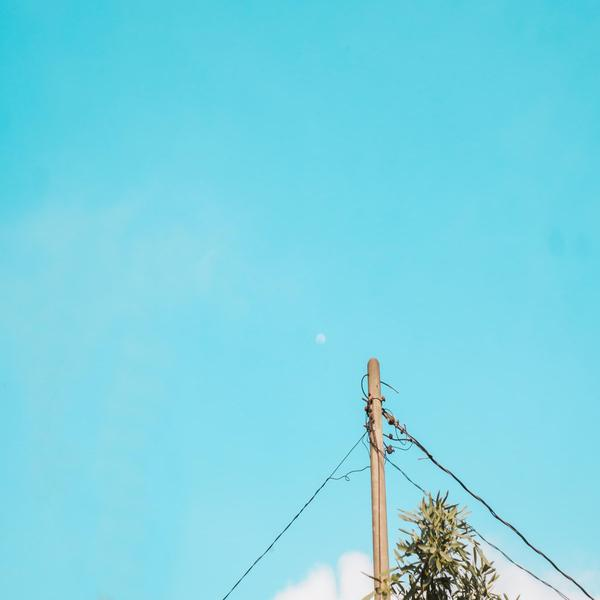utility_pole: (338, 348, 426, 478)
